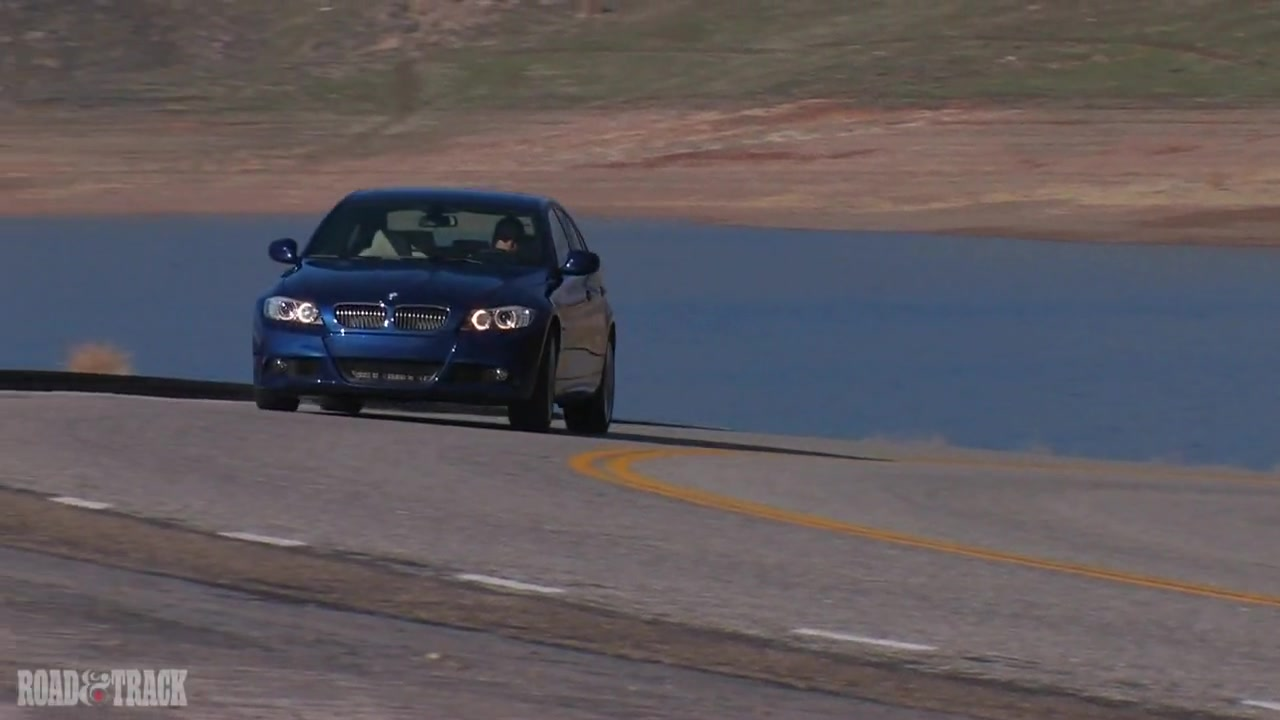car: (255, 181, 618, 438)
